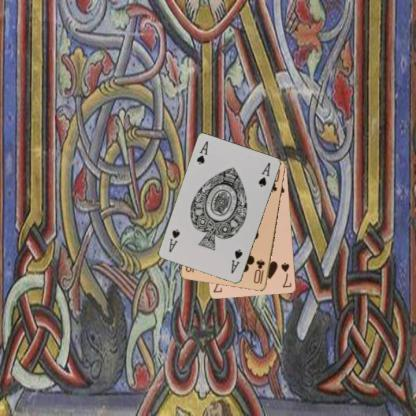10c: (252, 256, 266, 285)
7s: (279, 260, 292, 289)
As: (194, 138, 210, 166), (229, 247, 244, 275)
